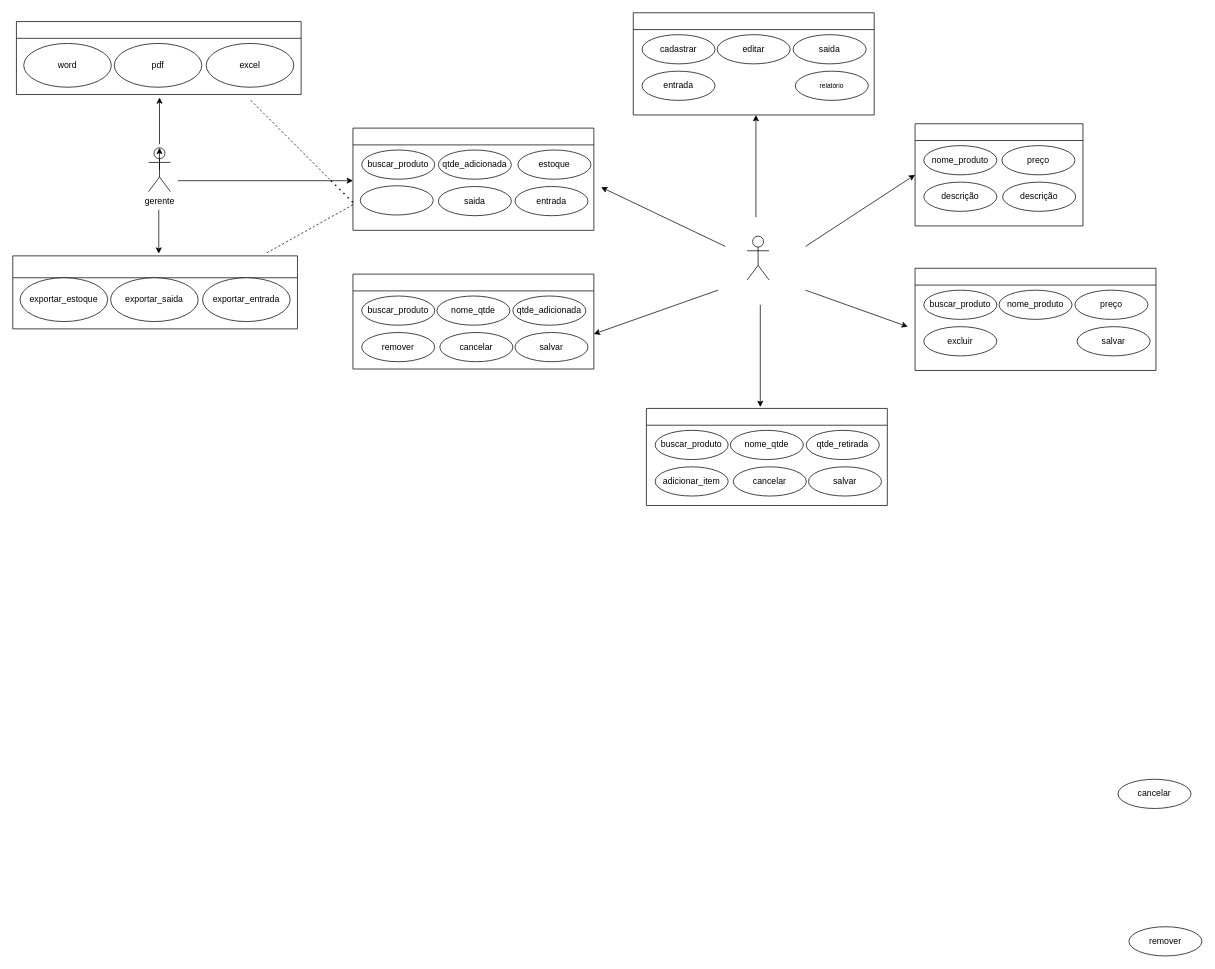
The diagram is 1215 pixels wide and 969 high, and some of its shapes have lost their labels. The box of each missing label's shape, as (x1, y1, x2, y2) in pixels:
exportar: (360, 185, 433, 215)
frame-cadastrar: (914, 123, 1083, 226)
frame-editar: (914, 268, 1156, 370)
frame-entrada: (352, 273, 594, 369)
frame-menu: (633, 12, 874, 115)
frame-relatório: (352, 127, 594, 230)
frame-saída: (646, 408, 887, 506)
operador: (746, 235, 769, 280)
popup_extensão: (16, 21, 301, 95)
popup_relatório: (12, 255, 297, 329)
